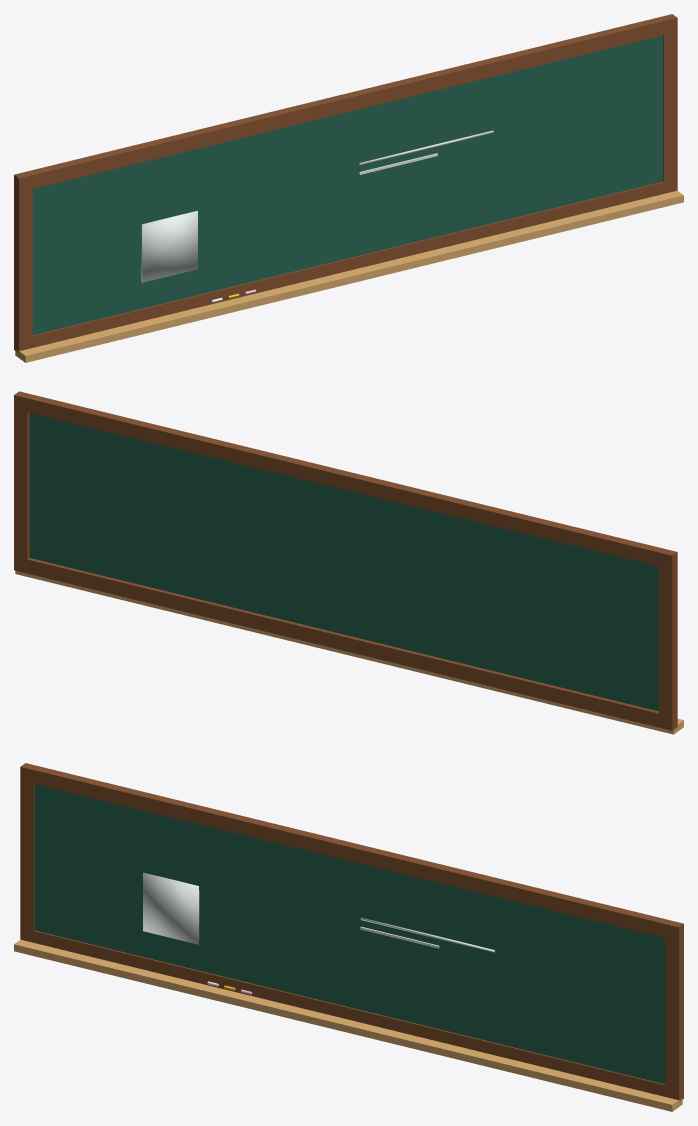
The model's file is blackboard.glb.
3 renders of one model, top to bottom at view 1: azimuth 30°, elevation 25°; view 2: azimuth 150°, elevation 25°; view 3: azimuth 330°, elevation 25°, orthographic.
Parts seen in each view (by area): view 1: root; view 2: root; view 3: root.
Boxes of the visible parts, x1=… form: root: x1=14, y1=14, x2=683, y2=362; root: x1=14, y1=391, x2=683, y2=734; root: x1=14, y1=763, x2=683, y2=1111.
Bounding box in the file's own units: 5.9 × 1.54 × 0.18.
